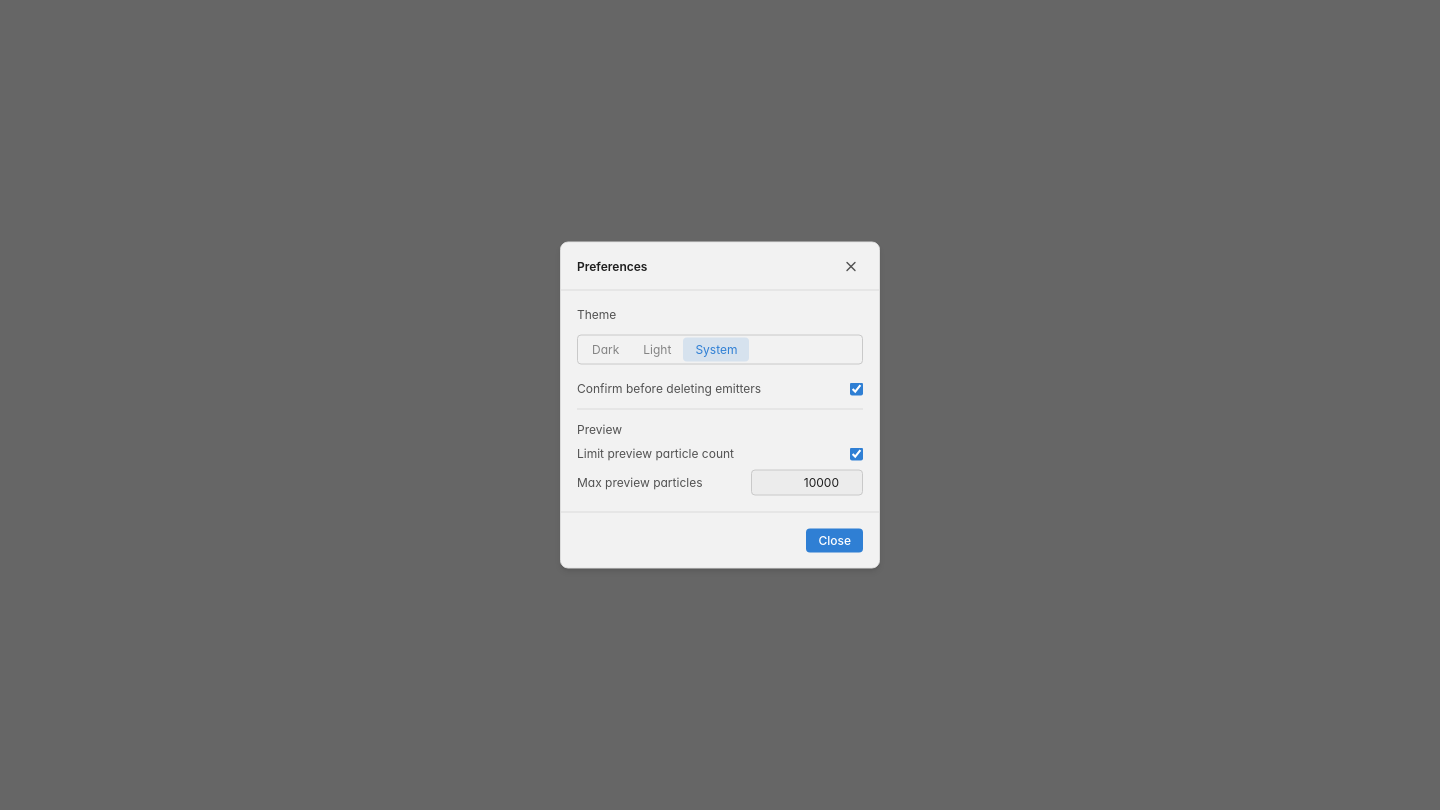
Test: PreferencesDialog › committing a new cap on blur clamps, persists, and sends
The image size is (1440, 810).
Replace the text in the number field labelled "Max preview particles" with "50" at (807, 482), box x1=751 y1=470 x2=863 y2=496
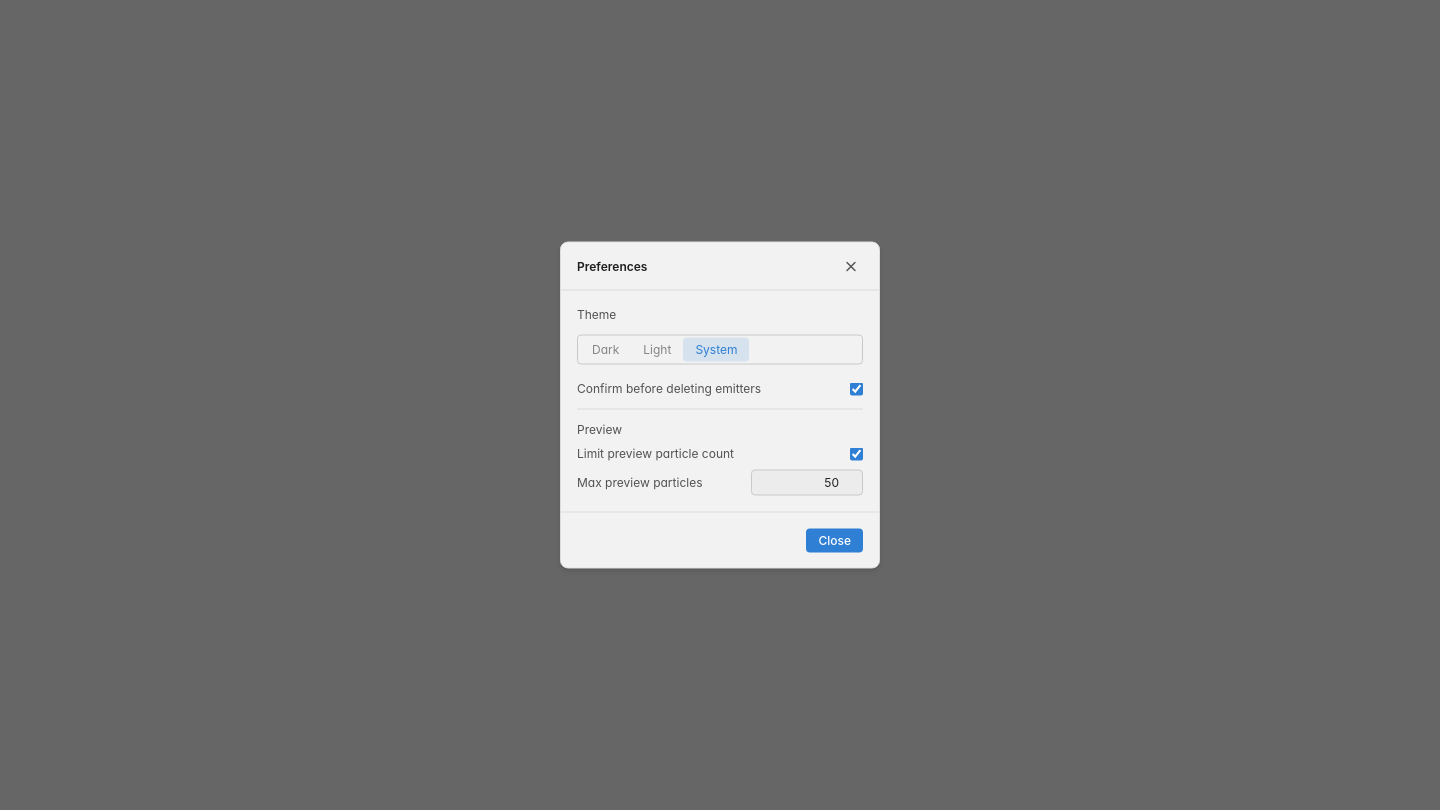
Leave the number field labelled "Max preview particles", box x1=751 y1=470 x2=863 y2=496
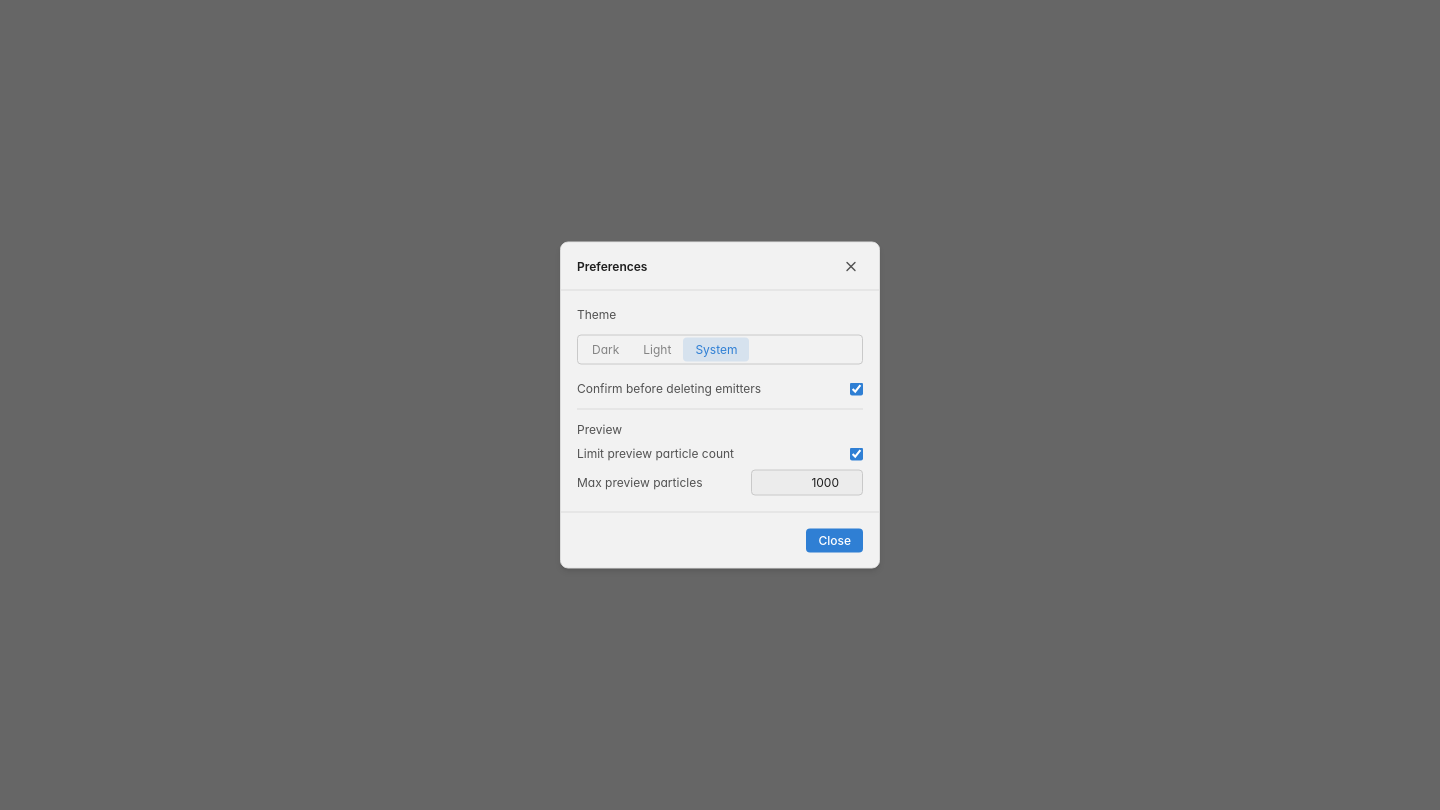
expect the number field labelled "Max preview particles" holds "1000": met, box x1=751 y1=470 x2=863 y2=496
